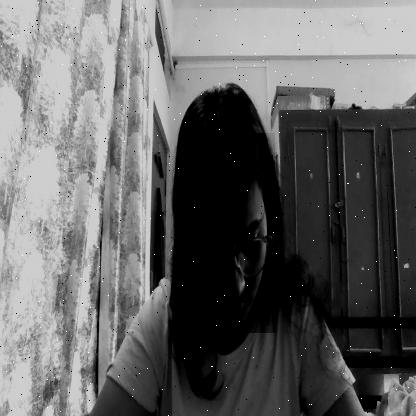Distracted: (181, 133, 275, 333)
